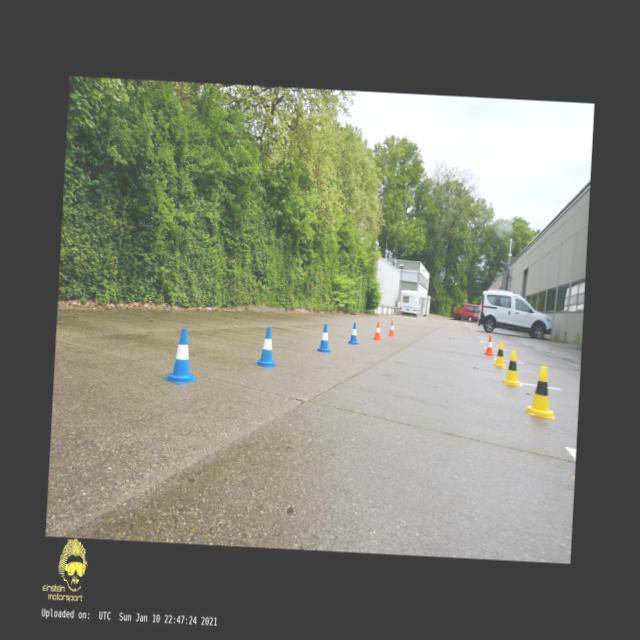blue_cone: (163, 328, 200, 386), (254, 326, 280, 368), (318, 324, 332, 352), (348, 322, 359, 344)
orange_cone: (484, 336, 495, 356), (373, 322, 382, 340), (388, 322, 395, 336)
yellow_cone: (525, 366, 558, 418), (502, 350, 522, 386), (493, 342, 507, 368)
